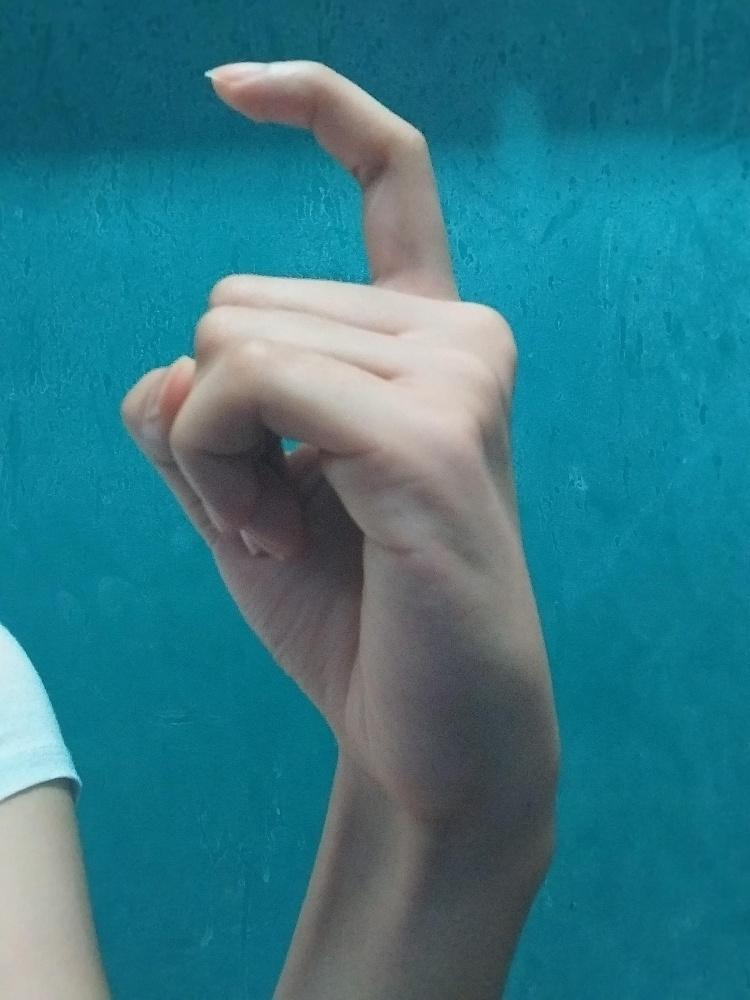x: (119, 55, 570, 824)
